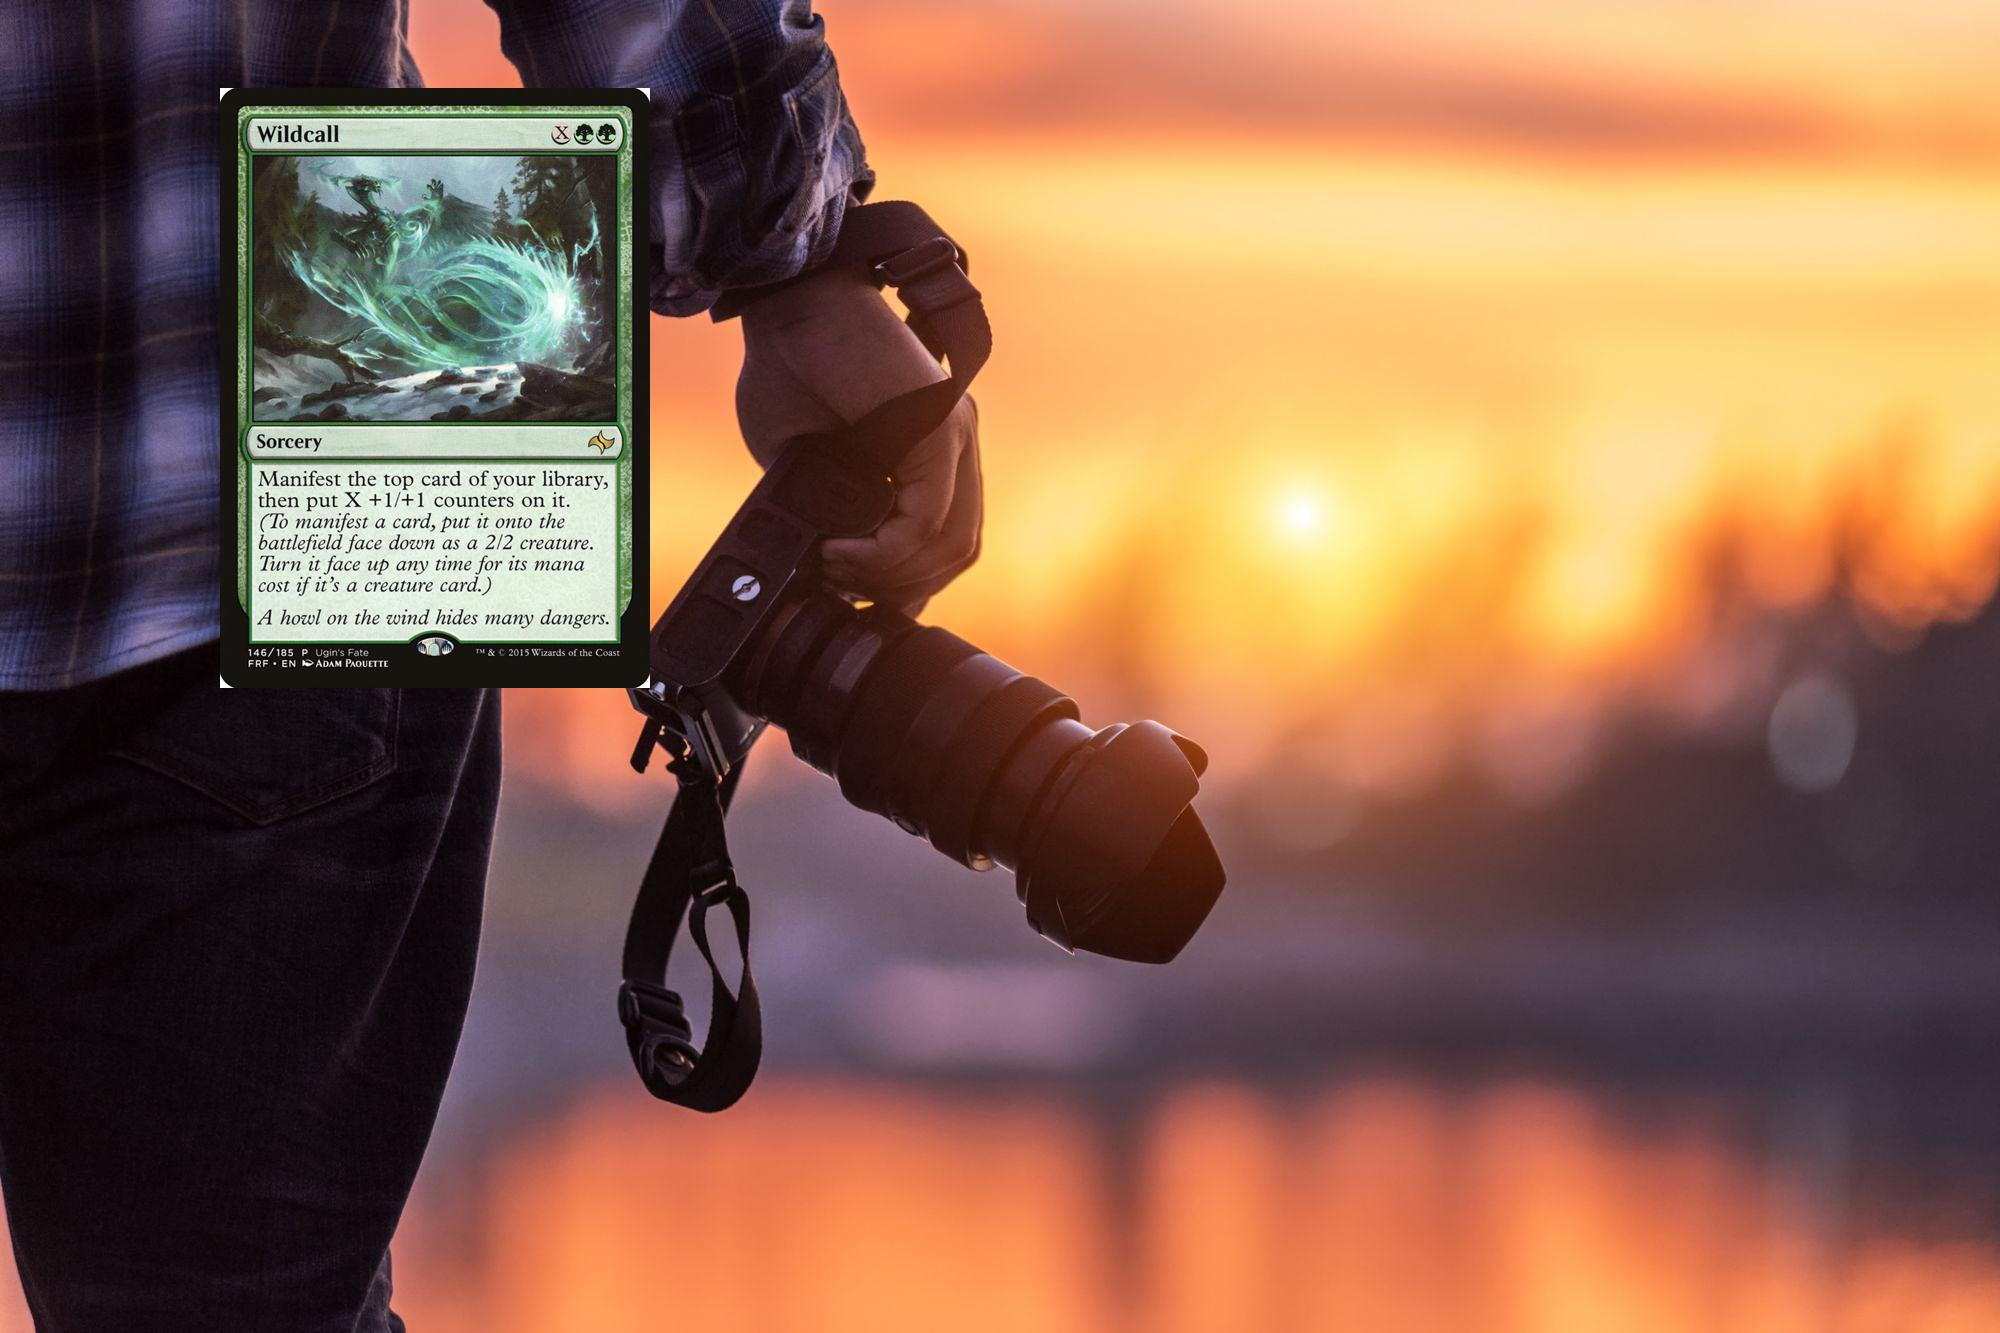mtgCard: (220, 88, 650, 687)
